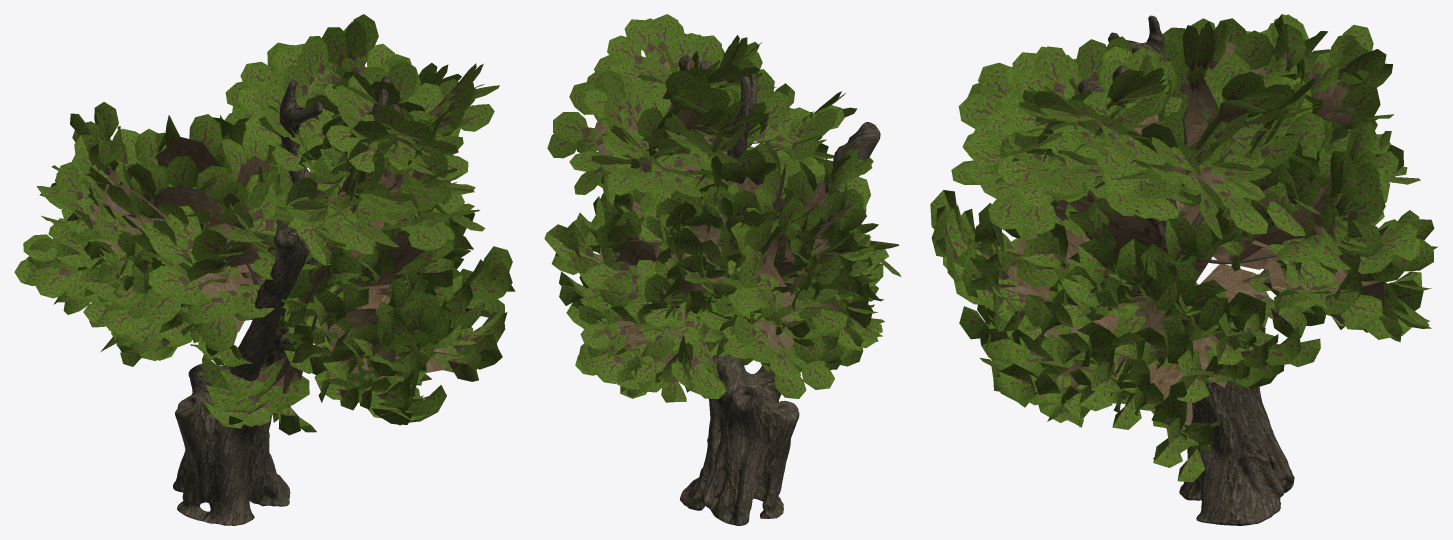
File: SM_Zelkova_1.fbx
3 views of the same model, side by side, from view 1: azimuth 30°, elevation 25°; view 2: azimuth 150°, elevation 25°; view 3: azimuth 270°, elevation 25° (orthographic). The views are drawn at different scales.
Visible parts, largest first — view 1: SM_Zelkova_1; view 2: SM_Zelkova_1; view 3: SM_Zelkova_1.
Part boxes in pixels (x1=…): SM_Zelkova_1: x1=14, y1=14, x2=515, y2=525; SM_Zelkova_1: x1=544, y1=14, x2=901, y2=525; SM_Zelkova_1: x1=930, y1=14, x2=1437, y2=525.
Size of the model in its own units: 1050 by 1014 by 1133.
2 materials, 2 textured.
